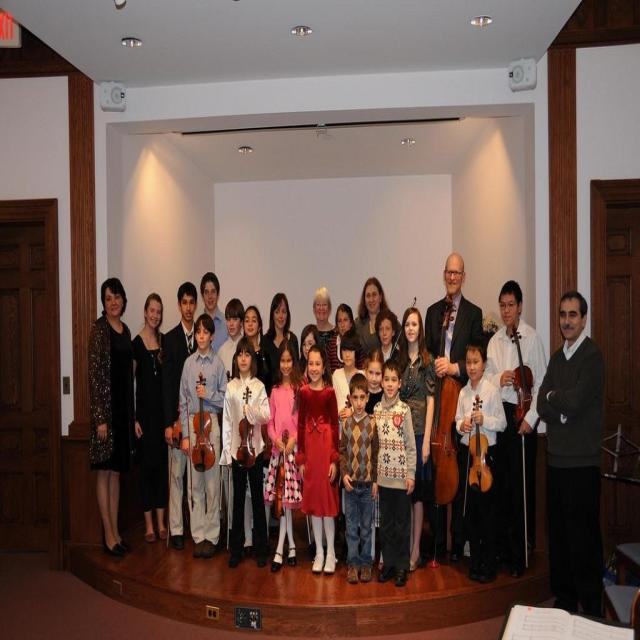cello: (426, 298, 464, 505)
violin: (466, 396, 496, 496), (510, 325, 534, 433), (191, 372, 216, 474), (270, 429, 292, 516), (235, 385, 257, 468), (172, 408, 184, 453)
